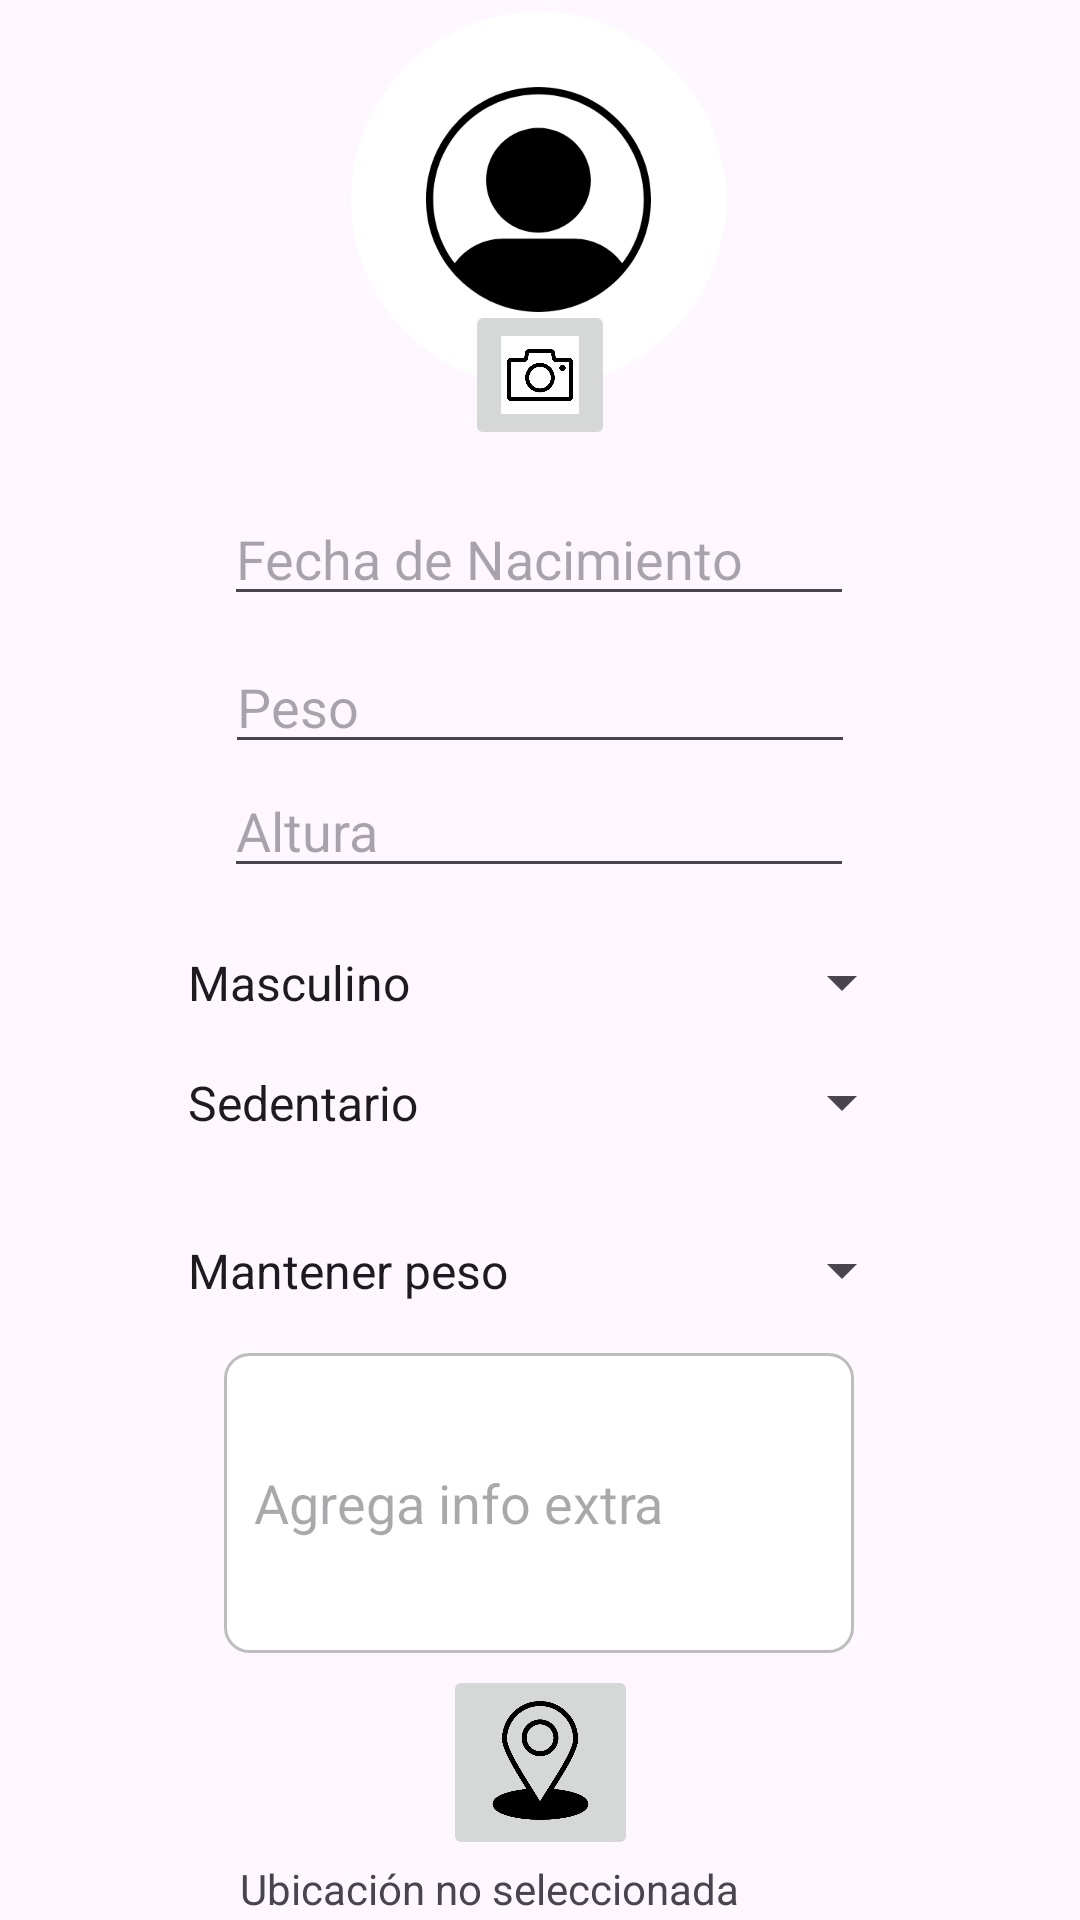

Icons on this 1080px x 1920px Android screen, each with the point to tap as [x,y]:
ubicacion: [540,1762]
